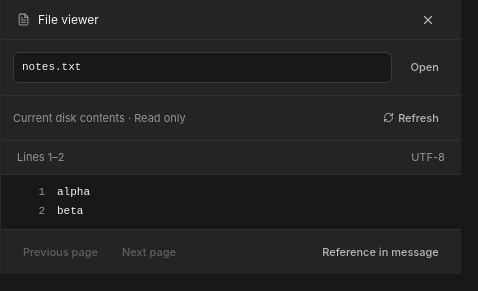
Test: FilePanel › removes old contents when a refresh withholds protected file text
Check: the text "alpha" is shown, box [57,186,90,198]
Click the button "Refresh" at x=411, y=118, box [373,104,449,132]
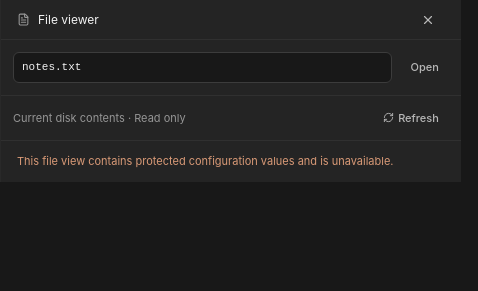
Check: the message "This file view contains protected configuration values and is unavailable." is shown, box [17,154,394,168]
Check: the text "alpha" is gone
Check: the button "Reference in message" is gone
